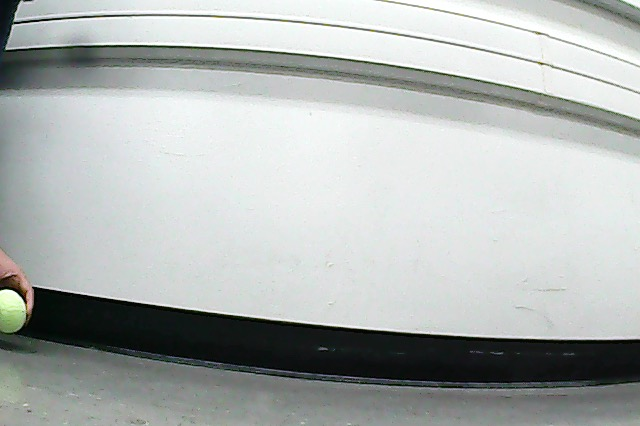ball: (1, 289, 28, 336)
